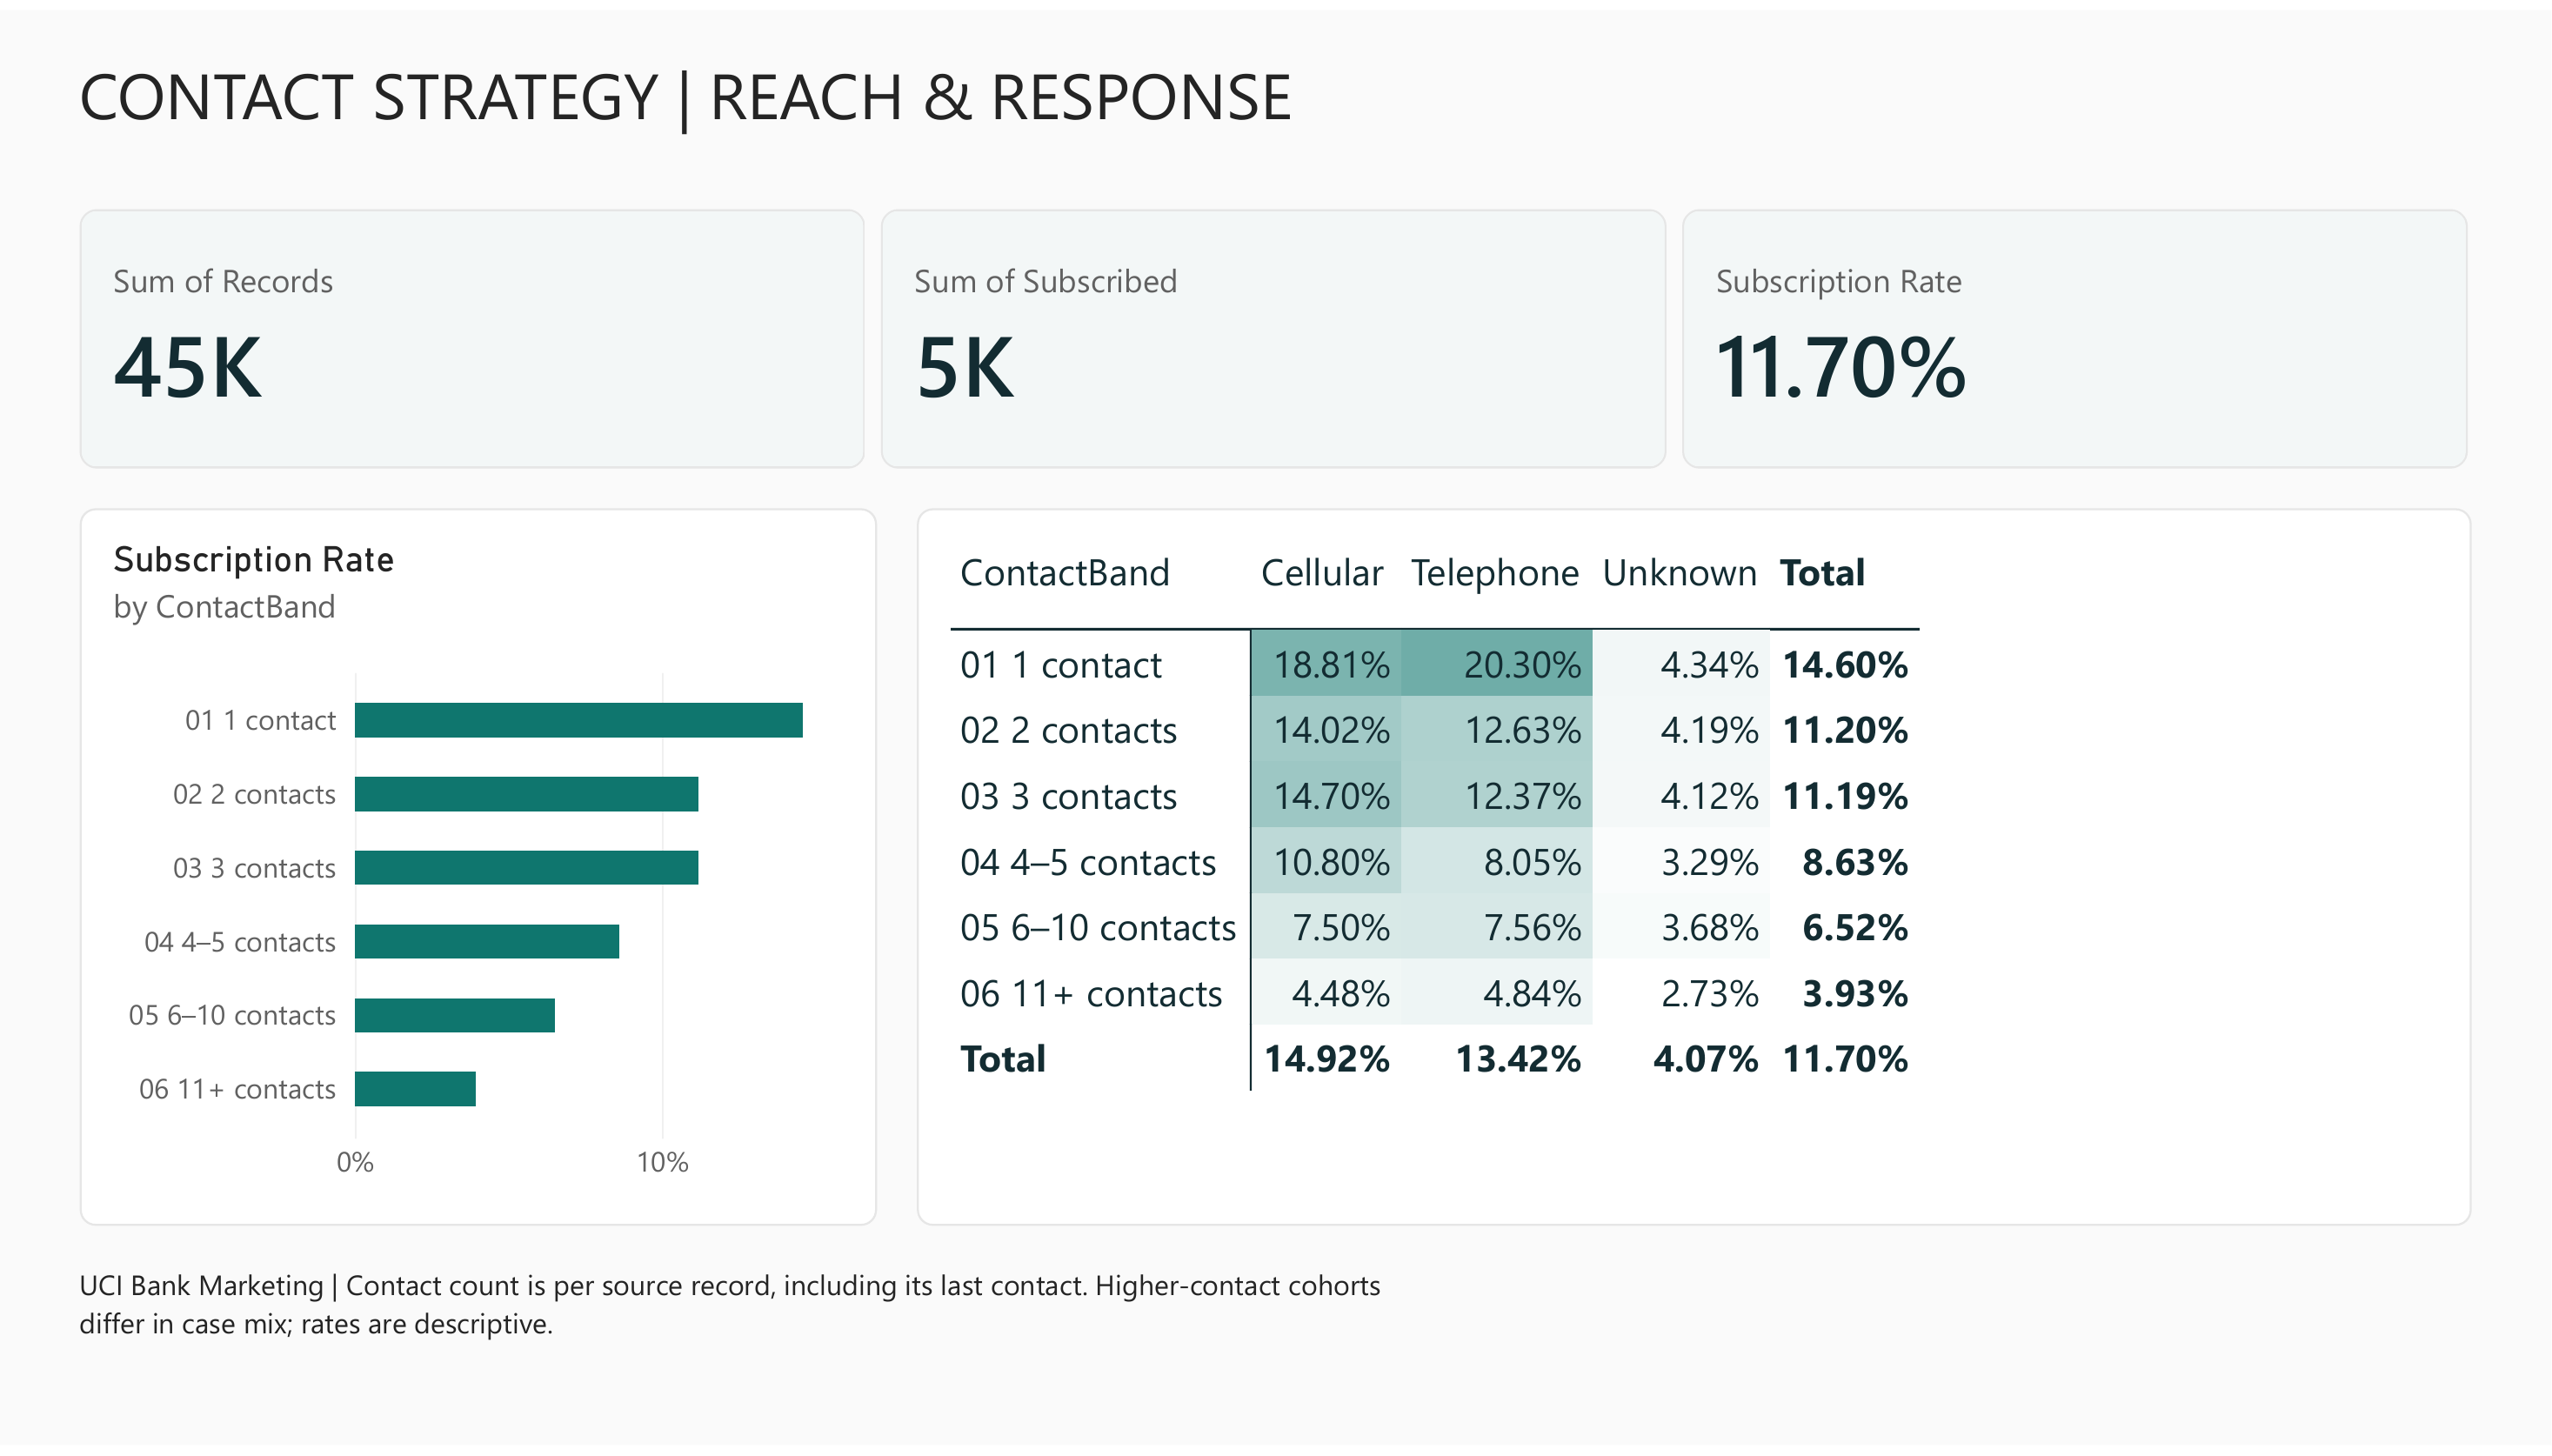

The dashboard page shown, as its layout file describes it:
{"tool":"powerbi","page":{"name":"02 Contact Strategy","canvas":[1280,720],"ordinal":1},"visuals":[{"type":"cardVisual","fields":{"Data":["Sum(campaigns.Records)","Sum(campaigns.Subscribed)","campaigns.Subscription Rate"]},"box":[40,100,1200,130],"z":0},{"type":"textbox","box":[40,20,1200,60],"z":1000},{"type":"clusteredBarChart","fields":{"Category":["campaigns.ContactBand"],"Y":["campaigns.Subscription Rate"]},"box":[40,250,400,360],"z":2000},{"type":"pivotTable","fields":{"Columns":["campaigns.ContactChannel"],"Rows":["campaigns.ContactBand"],"Values":["campaigns.Subscription Rate"]},"box":[460,250,780,360],"z":3000},{"type":"textbox","box":[40,630,670,60],"z":4000}]}

Visuals, with their boxes in screenshot pixels (x1, y1, x2, y2), scaled from the page's 1280x720 canvas onto the 2552x1456 screenshot:
cardVisual - Sum(campaigns.Records) x Sum(campaigns.Subscribed): (80,203,2472,465)
textbox: (80,40,2472,162)
clusteredBarChart - campaigns.ContactBand x campaigns.Subscription Rate: (80,505,878,1233)
pivotTable - campaigns.ContactChannel x campaigns.ContactBand: (917,505,2472,1233)
textbox: (80,1274,1415,1395)
